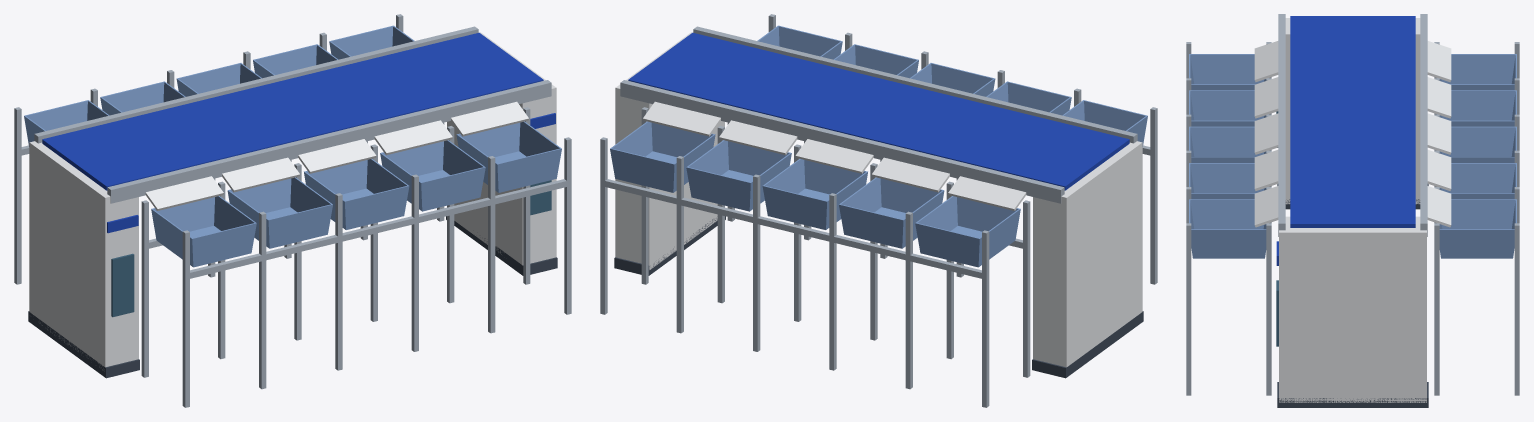
Rendered from SM_MPR_SorterShort10_LOD2.fbx.
3 views of the same model, side by side, from view 1: azimuth 30°, elevation 25°; view 2: azimuth 150°, elevation 25°; view 3: azimuth 270°, elevation 25° (orthographic). The views are drawn at different scales.
Parts seen in each view (by area): view 1: SM_MPR_SorterShort10_LOD2; view 2: SM_MPR_SorterShort10_LOD2; view 3: SM_MPR_SorterShort10_LOD2.
Boxes of the visible parts, bbox=[...] form: SM_MPR_SorterShort10_LOD2: bbox=[14, 14, 571, 407]; SM_MPR_SorterShort10_LOD2: bbox=[600, 14, 1157, 407]; SM_MPR_SorterShort10_LOD2: bbox=[1186, 14, 1519, 407].
Size of the model in its own units: 276 by 181 by 111.
